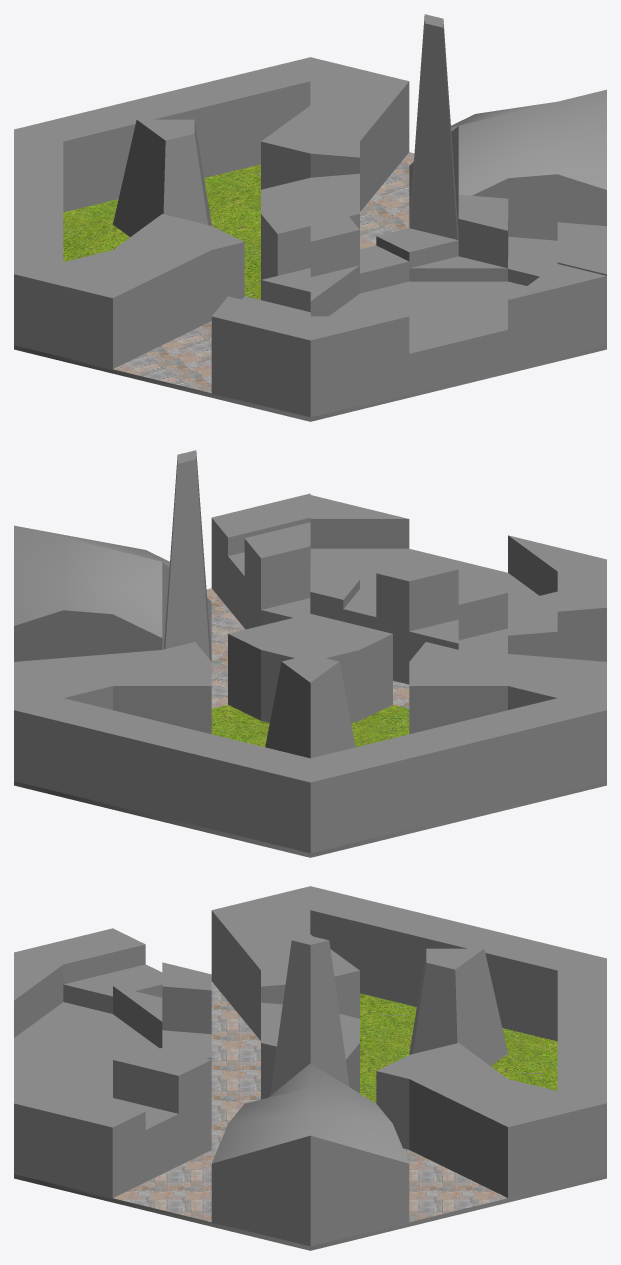
3 views of the same model, one above another, from view 1: azimuth 30°, elevation 25°; view 2: azimuth 150°, elevation 25°; view 3: azimuth 270°, elevation 25° (orthographic).
Visible parts, largest first — view 1: Cylinder003; view 2: Cylinder003; view 3: Cylinder003.
Part boxes in pixels (box(x1,y1,x2,y2)): Cylinder003: box(14, 14, 606, 421); Cylinder003: box(14, 450, 606, 857); Cylinder003: box(14, 886, 606, 1250).
Bounding box in the file's own units: 140 × 51 × 121.
Materials: 5 (2 with a texture image).
